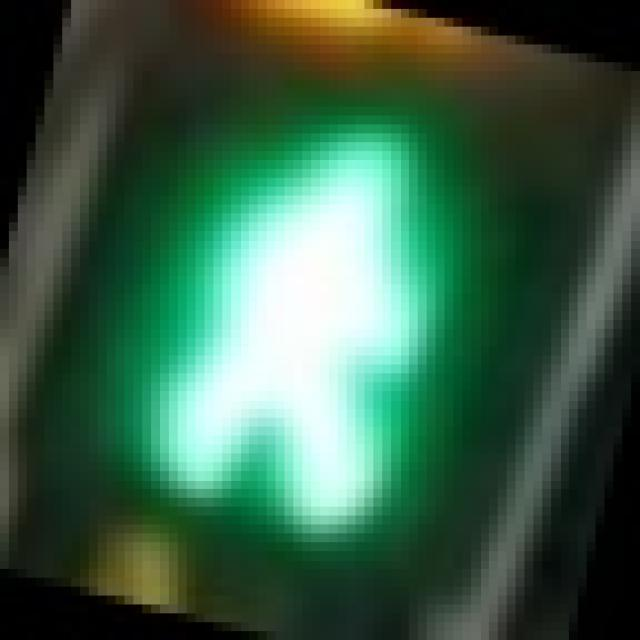geen-crossing: (98, 62, 516, 551)
